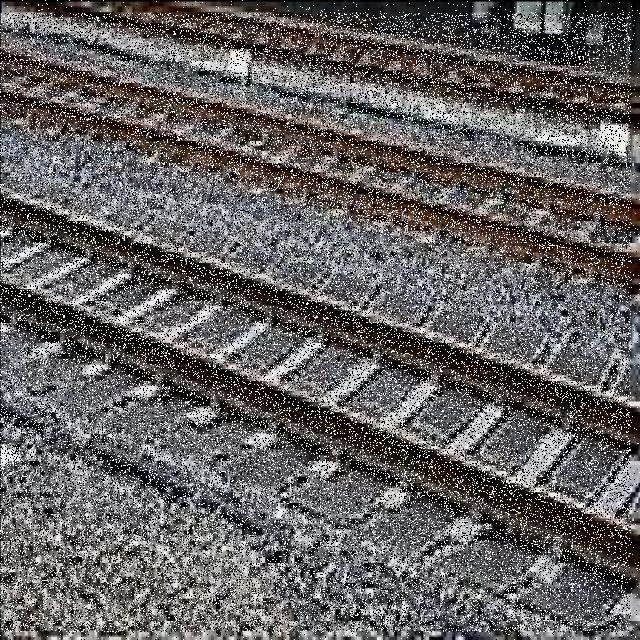rail: (1, 15, 632, 633)
